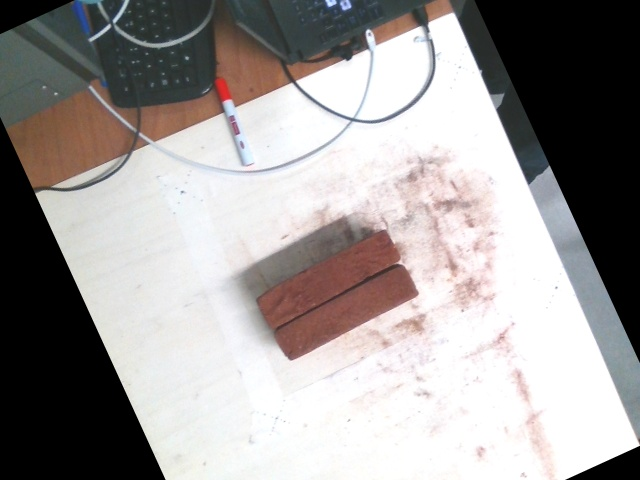brick-side: (275, 262, 418, 362), (256, 229, 400, 328)
